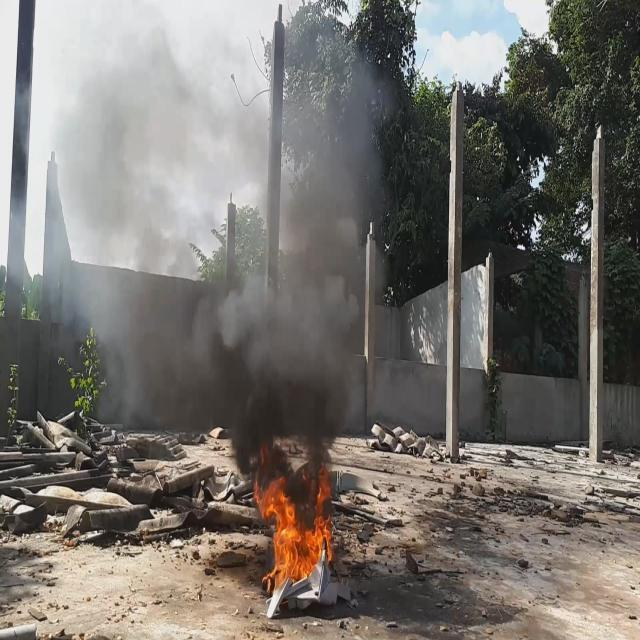Fire: (251, 445, 338, 592)
Smoke: (48, 19, 362, 498)
